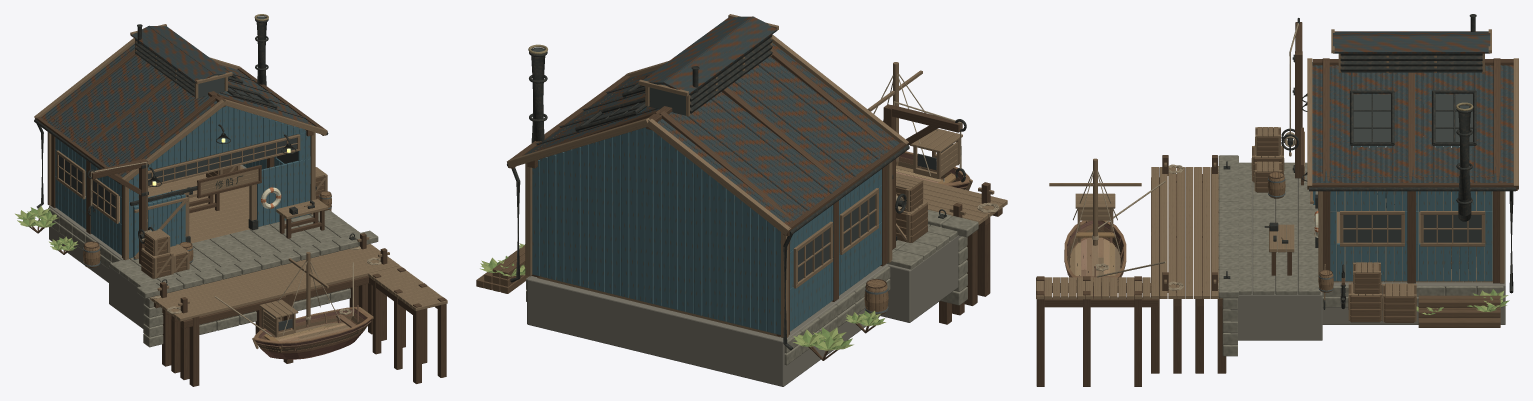
File: shipyard_b.glb
The picture shows the model from 3 angles, left to right: view 1: azimuth 30°, elevation 25°; view 2: azimuth 150°, elevation 25°; view 3: azimuth 270°, elevation 25°; orthographic projection. The views are drawn at different scales.
Visible parts, largest first — view 1: ShipyardB_HarborCraft_TerminalTimber_frame, ShipyardB_HarborCraft_TerminalTimber_deck, ShipyardB_Shipyard_OxidisedRoof, ShipyardB_Shipyard_BlueSaltPaint, ShipyardB_HarborCraft_Terminal_Stone, ShipyardB_HarborCraft_TerminalTimber_trim, ShipyardB_HarborCraft_CraneForgedIron, ShipyardB_BoatWood_Lit, ShipyardB_HarborCraft_WindowShade, ShipyardB_Shipyard_AgedMortar, ShipyardB_HarborCraft_TerminalTimber_cargo_frame, ShipyardB_HarborCraft_Hemp (+4 smaller); view 2: ShipyardB_Shipyard_BlueSaltPaint, ShipyardB_Shipyard_OxidisedRoof, ShipyardB_Shipyard_AgedMortar, ShipyardB_HarborCraft_TerminalTimber_frame, ShipyardB_HarborCraft_TerminalTimber_trim, ShipyardB_HarborCraft_CraneForgedIron, ShipyardB_HarborCraft_Terminal_Stone, ShipyardB_HarborCraft_TerminalTimber_deck, ShipyardB_HarborCraft_TerminalTimber_cargo_frame, ShipyardB_HarborCraft_WindowShade, ShipyardB_Shipyard_SageLeaf, ShipyardB_BoatWood_Lit (+4 smaller); view 3: ShipyardB_Shipyard_OxidisedRoof, ShipyardB_HarborCraft_TerminalTimber_deck, ShipyardB_HarborCraft_TerminalTimber_frame, ShipyardB_HarborCraft_Terminal_Stone, ShipyardB_Shipyard_BlueSaltPaint, ShipyardB_HarborCraft_CraneForgedIron, ShipyardB_HarborCraft_TerminalTimber_trim, ShipyardB_HarborCraft_WindowShade, ShipyardB_HarborCraft_TerminalTimber_cargo_frame, ShipyardB_Shipyard_AgedMortar, ShipyardB_BoatWood_Lit, ShipyardB_HarborCraft_Hemp (+1 smaller).
Boxes of the visible parts, x1,y1,x2,y2 form: ShipyardB_HarborCraft_TerminalTimber_frame: (29,49,446,386); ShipyardB_HarborCraft_TerminalTimber_deck: (119,166,447,337); ShipyardB_Shipyard_OxidisedRoof: (41,25,314,177); ShipyardB_Shipyard_BlueSaltPaint: (55,91,310,259); ShipyardB_HarborCraft_Terminal_Stone: (48,165,378,347); ShipyardB_HarborCraft_TerminalTimber_trim: (34,24,389,337); ShipyardB_HarborCraft_CraneForgedIron: (34,16,355,285); ShipyardB_BoatWood_Lit: (252,305,373,359); ShipyardB_HarborCraft_WindowShade: (59,76,298,330); ShipyardB_Shipyard_AgedMortar: (49,165,246,328); ShipyardB_HarborCraft_TerminalTimber_cargo_frame: (141,166,331,278); ShipyardB_HarborCraft_Hemp: (91,162,381,336); ShipyardB_Shipyard_BlueSaltPaint: (532,106,881,334); ShipyardB_Shipyard_OxidisedRoof: (525,16,899,225); ShipyardB_Shipyard_AgedMortar: (527,235,961,386); ShipyardB_HarborCraft_TerminalTimber_frame: (508,48,1002,360); ShipyardB_HarborCraft_TerminalTimber_trim: (507,14,994,337); ShipyardB_HarborCraft_CraneForgedIron: (507,34,966,350); ShipyardB_HarborCraft_Terminal_Stone: (526,209,978,365); ShipyardB_HarborCraft_TerminalTimber_deck: (537,128,1007,337); ShipyardB_HarborCraft_TerminalTimber_cargo_frame: (476,181,927,293); ShipyardB_HarborCraft_WindowShade: (590,86,952,281); ShipyardB_Shipyard_SageLeaf: (480,243,885,350); ShipyardB_BoatWood_Lit: (896,151,972,190); ShipyardB_Shipyard_OxidisedRoof: (1312,31,1513,183); ShipyardB_HarborCraft_TerminalTimber_deck: (1036,127,1492,299); ShipyardB_HarborCraft_TerminalTimber_frame: (1036,22,1517,386); ShipyardB_HarborCraft_Terminal_Stone: (1218,155,1503,356); ShipyardB_Shipyard_BlueSaltPaint: (1313,80,1492,281); ShipyardB_HarborCraft_CraneForgedIron: (1223,14,1515,309); ShipyardB_HarborCraft_TerminalTimber_trim: (1049,29,1518,321); ShipyardB_HarborCraft_WindowShade: (1343,94,1481,242); ShipyardB_HarborCraft_TerminalTimber_cargo_frame: (1253,127,1500,327); ShipyardB_Shipyard_AgedMortar: (1230,178,1505,340); ShipyardB_BoatWood_Lit: (1064,220,1126,297); ShipyardB_HarborCraft_Hemp: (1070,23,1298,290).
Size of the model in its own units: 11.18 by 9.64 by 14.12.
Materials: 23 (12 with a texture image).
